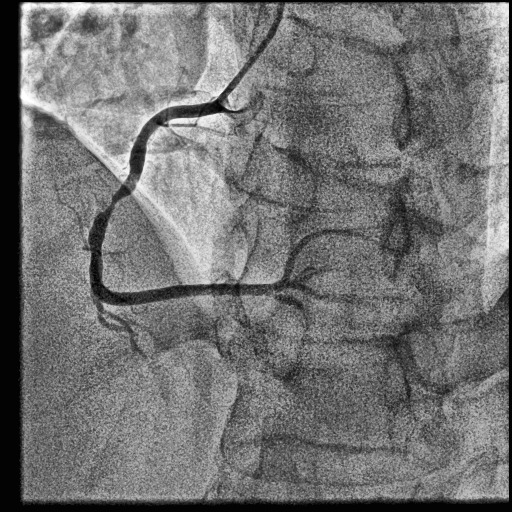pborca: (272, 229, 399, 292)
rca: (88, 104, 273, 306)
